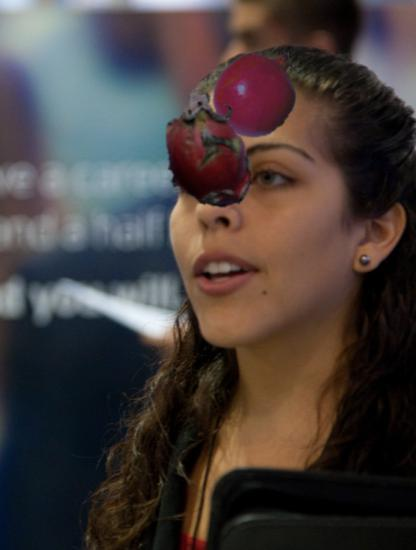Pitahaya: (142, 89, 269, 216)
Pomegranate: (207, 42, 309, 144)
